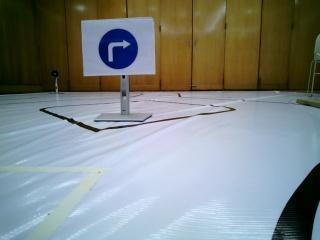right: (85, 20, 152, 72)
